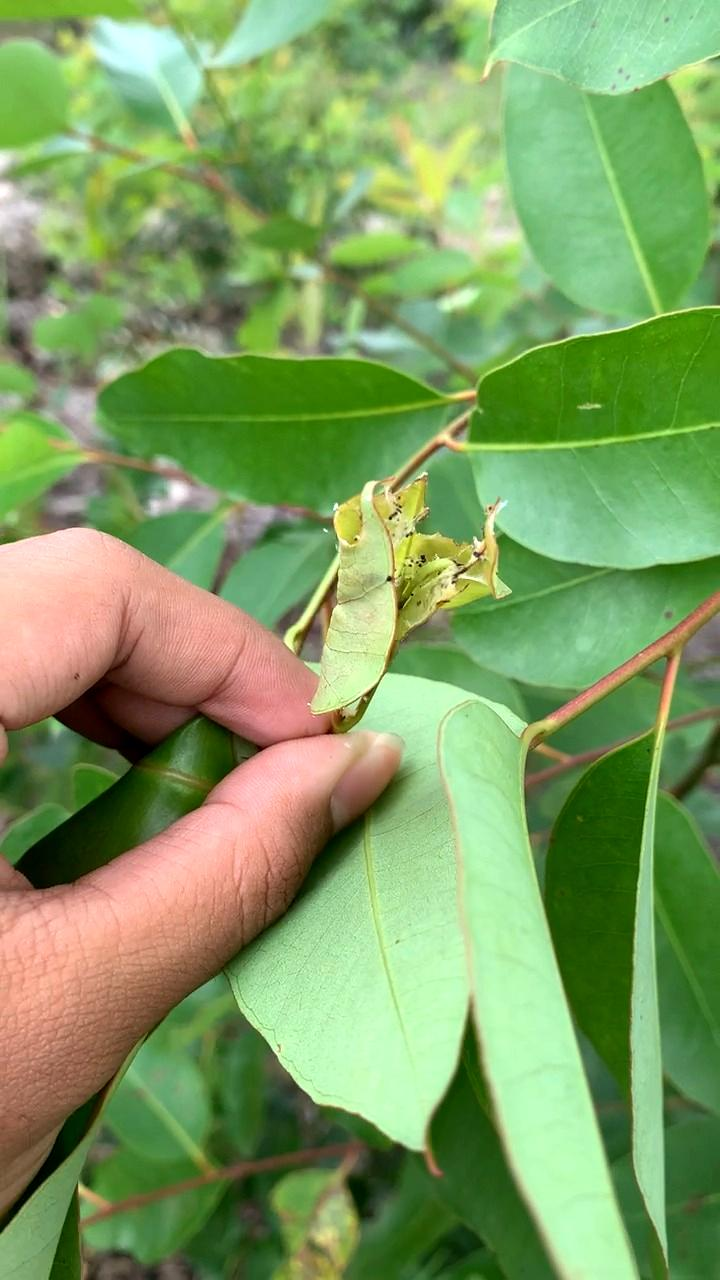Leaf Roller - Leaf: (313, 478, 509, 739)
